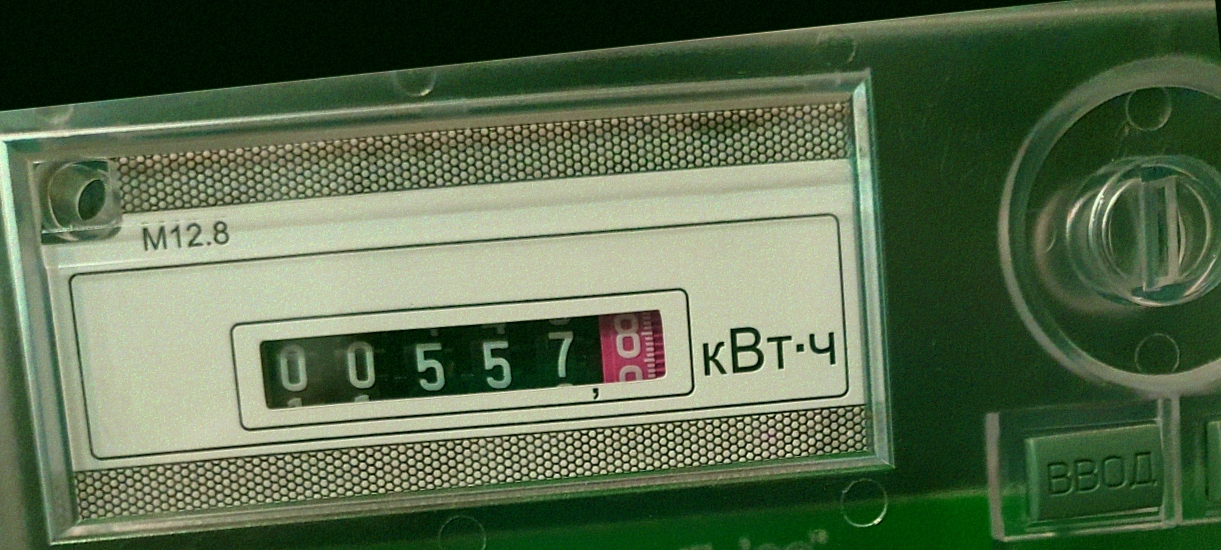0: (273, 337, 313, 397), (341, 336, 380, 391)
5: (476, 331, 519, 393), (410, 335, 450, 395)
7: (541, 324, 579, 382)
8: (611, 310, 644, 362)
screen: (224, 267, 703, 446)
